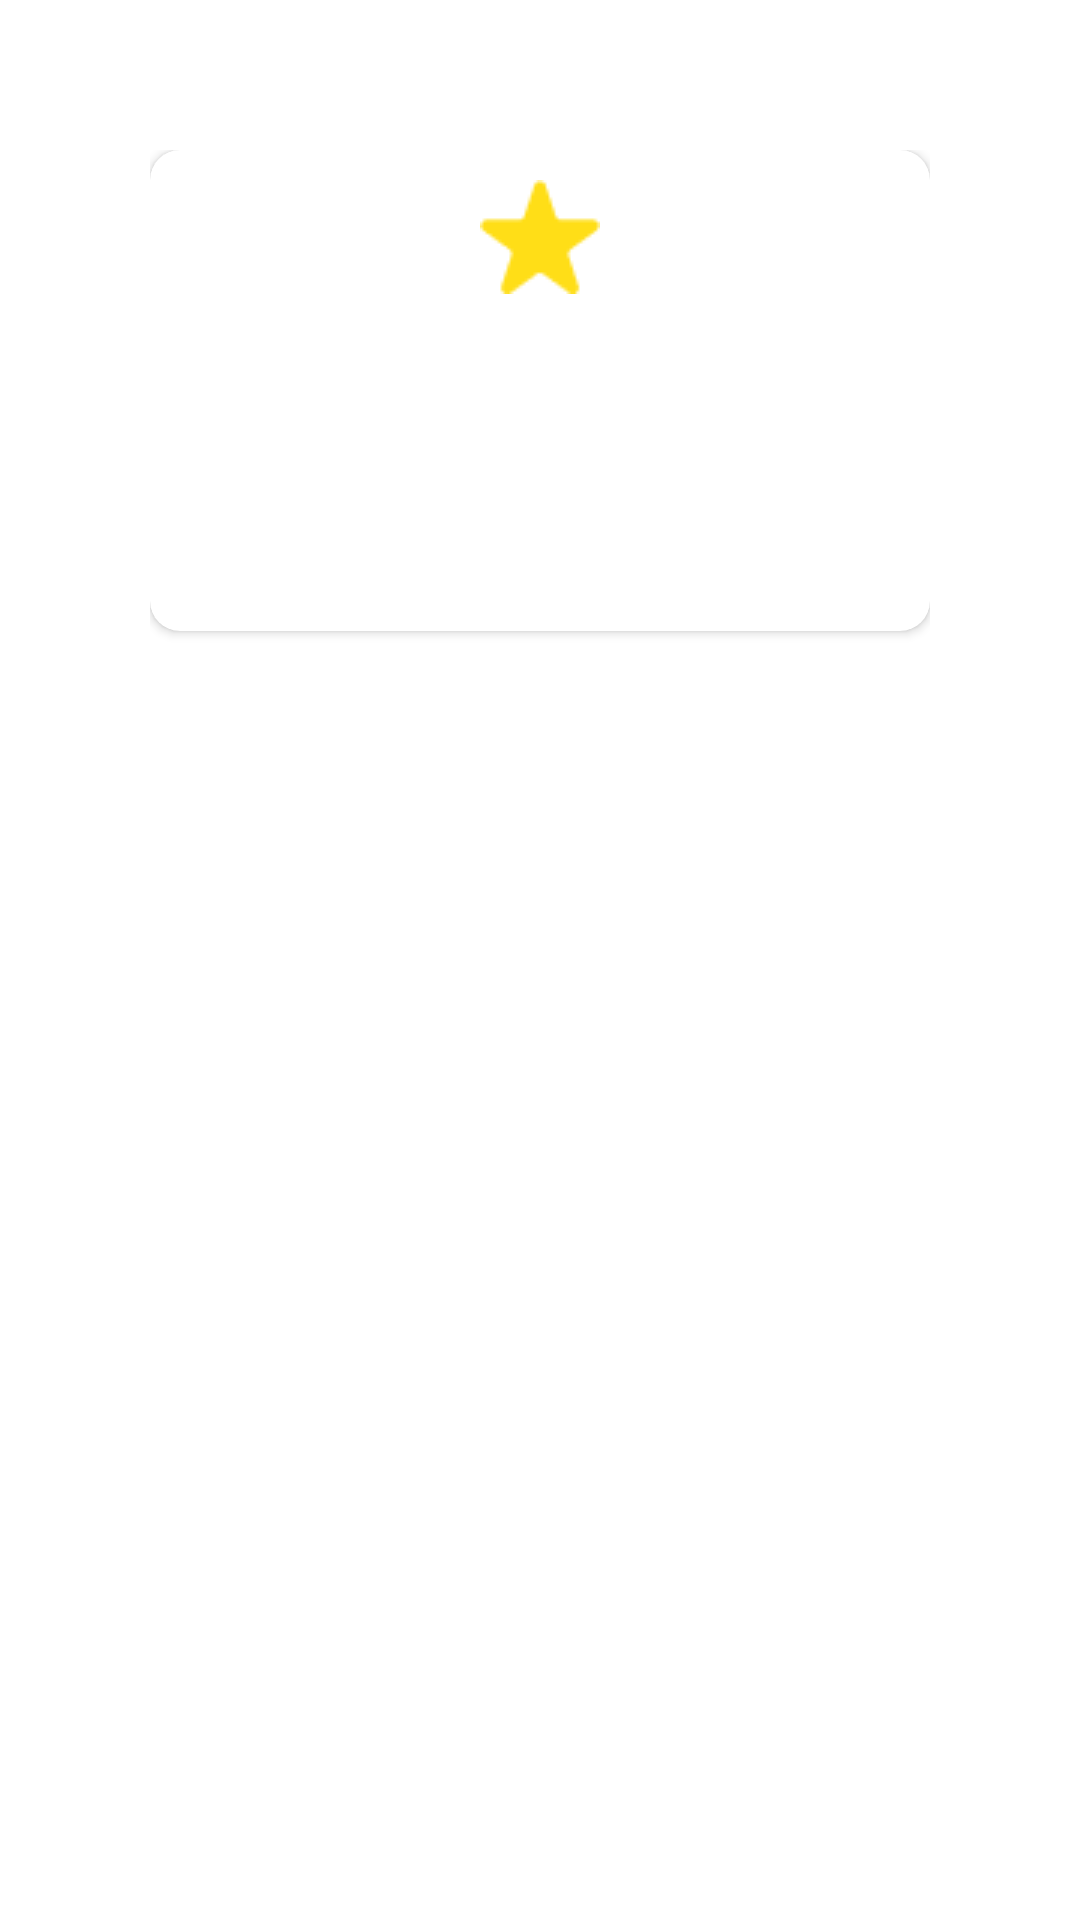

Where icons sit on this 1080px×1920px app screen, as bbox=[x1, y1, x2, y2]:
star: bbox=[480, 180, 600, 294]
